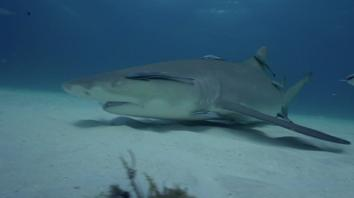Shark -Selachimorpha-: (61, 46, 351, 144)
